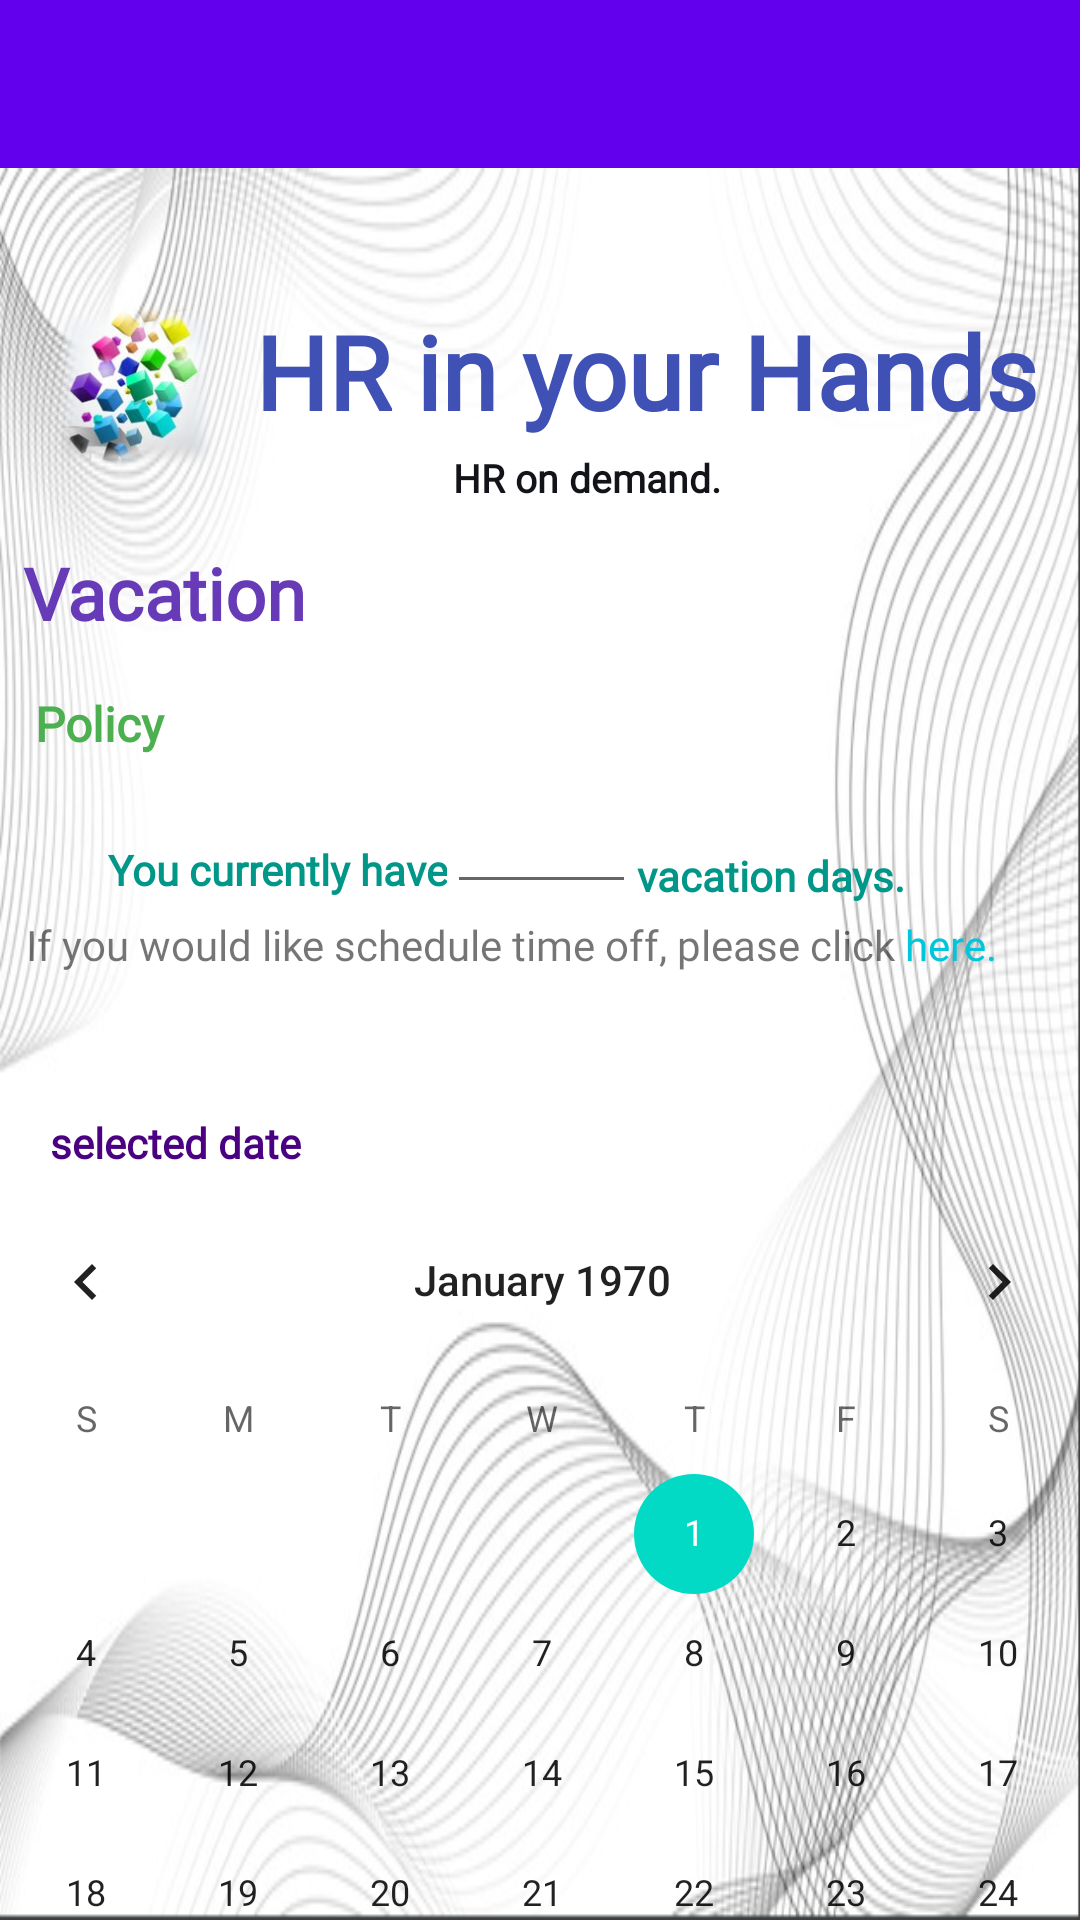

Screen size 1080w x 1920h. Icon name, then its box in pixels as region(x1, y1, x2, y2):
blocks: region(30, 303, 239, 471)
